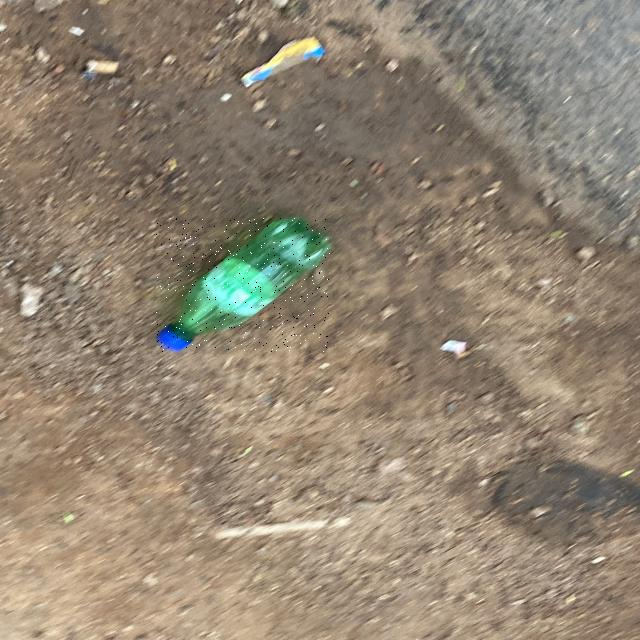plastic: (157, 218, 330, 352)
